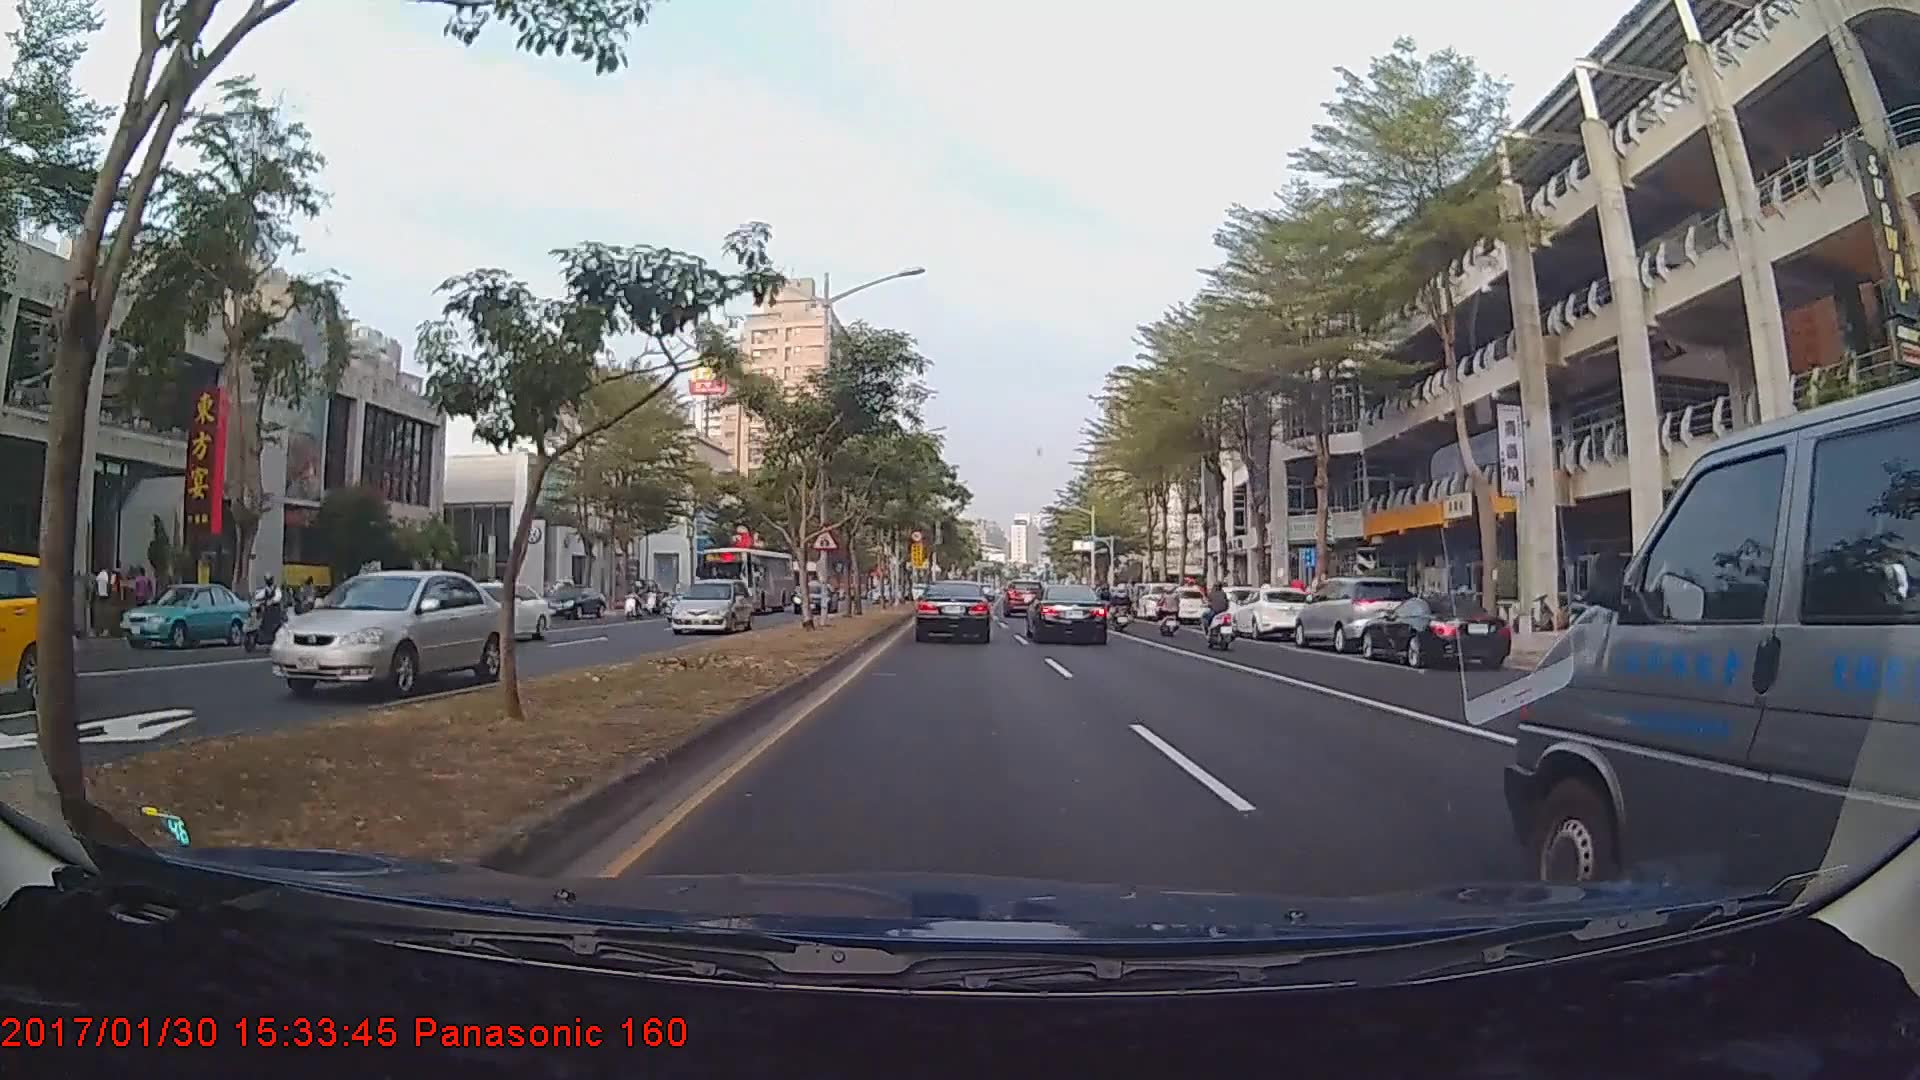rider: (239, 571, 295, 657), (1192, 582, 1243, 656), (1149, 582, 1188, 645), (1109, 584, 1134, 636)
vehicle: (1524, 404, 1915, 892), (266, 568, 504, 697), (1357, 594, 1513, 669), (1290, 572, 1415, 652), (0, 547, 62, 700), (116, 582, 251, 649), (434, 578, 550, 642), (700, 547, 793, 618), (914, 579, 993, 644), (1027, 582, 1109, 644), (667, 578, 754, 636), (1228, 585, 1313, 639), (1195, 586, 1262, 633), (1155, 587, 1205, 624), (1004, 575, 1047, 613), (788, 582, 834, 609)
